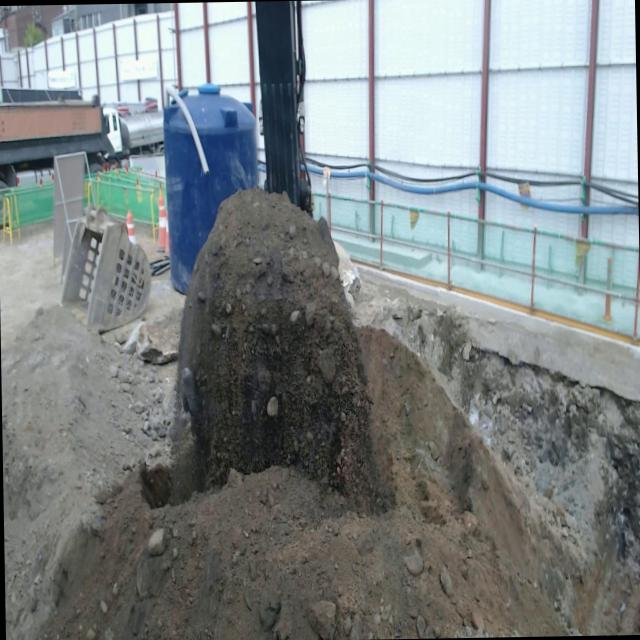red-sand: (176, 188, 376, 505)
white-sand: (1, 285, 640, 640)
